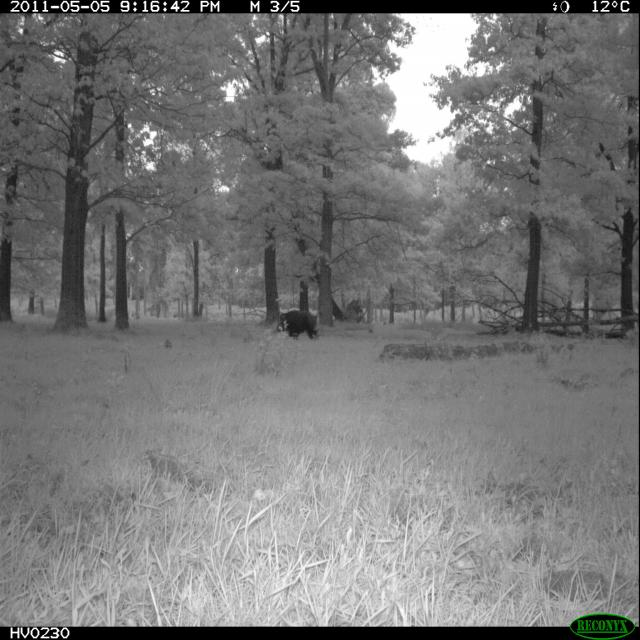boar: (264, 285, 334, 364)
